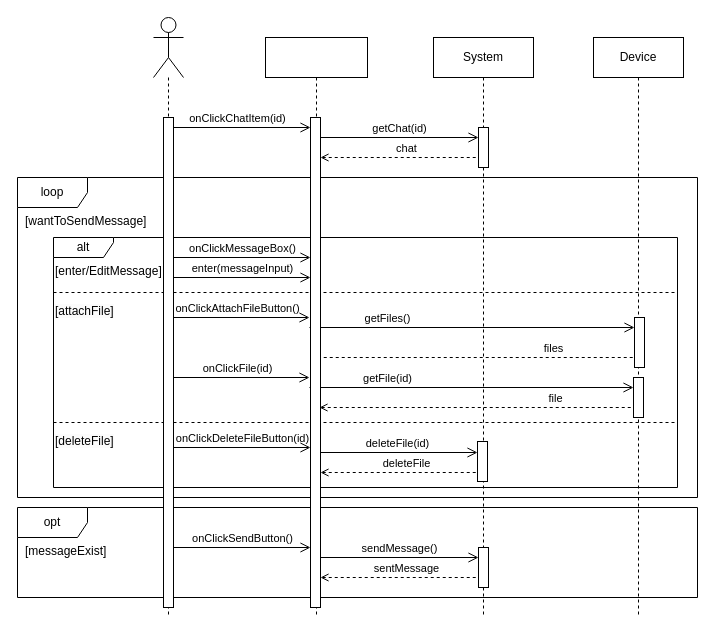
The diagram is 715 pixels wide and 636 high, and some of its shapes have lost their labels. The shapes that lost their labels are listed below. From the top down, each one's box as (x1, y1, x2, y2) in pixels, then its label:
(152, 16, 184, 78): BusinessAdmin
(264, 36, 368, 618): Chat page
